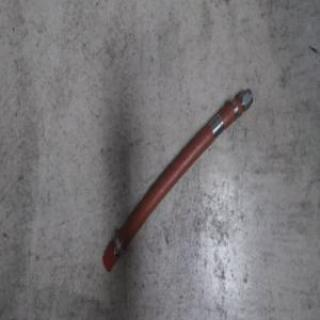Hosetrack_idkeyframe: (100, 84, 252, 275)
